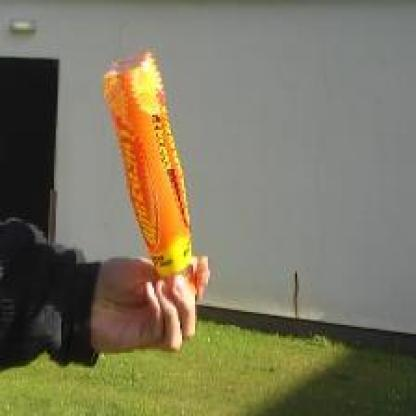other: (85, 43, 237, 290)
